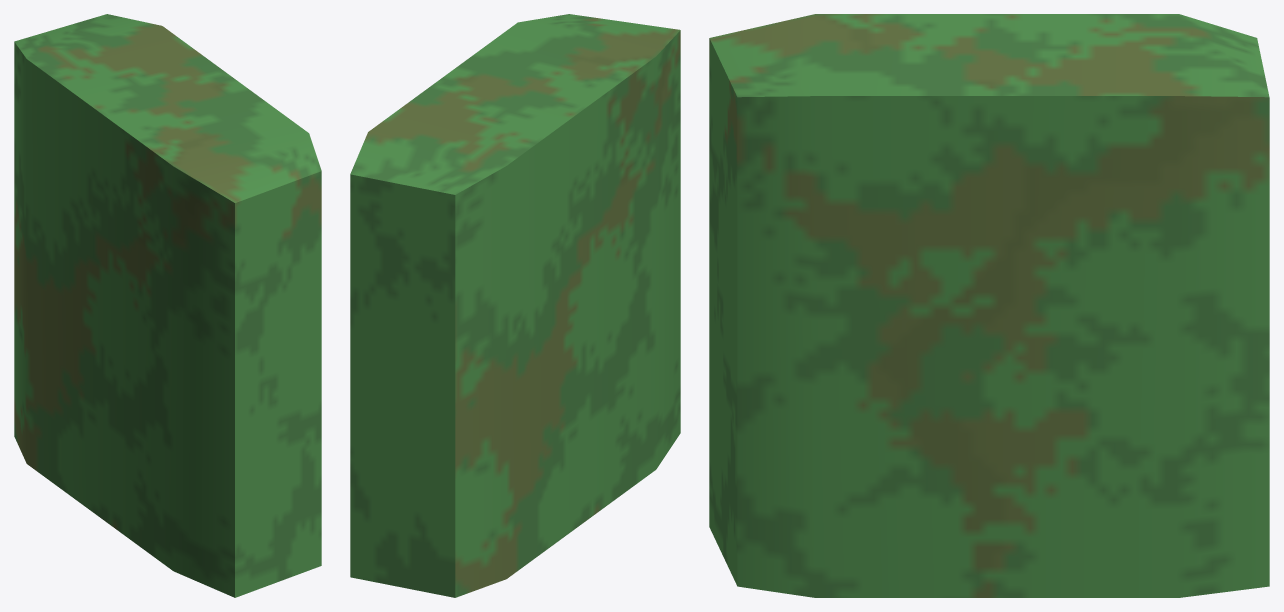
The model's file is RockWallA.fbx.
3 renders of one model, left to right at view 1: azimuth 30°, elevation 25°; view 2: azimuth 150°, elevation 25°; view 3: azimuth 270°, elevation 25°, orthographic. The views are drawn at different scales.
Visible parts, largest first — view 1: RockWallA; view 2: RockWallA; view 3: RockWallA.
Boxes of the visible parts, x1=… form: RockWallA: x1=14, y1=14, x2=321, y2=597; RockWallA: x1=350, y1=14, x2=680, y2=597; RockWallA: x1=709, y1=14, x2=1269, y2=597.
Size of the model in its own units: 524 by 1495 by 1512.
